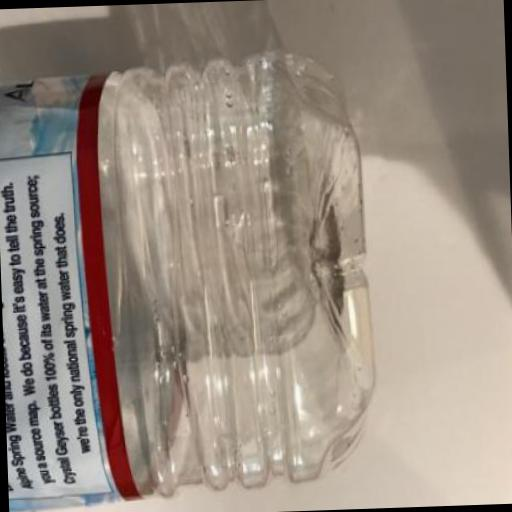plastic: (0, 46, 379, 512)
